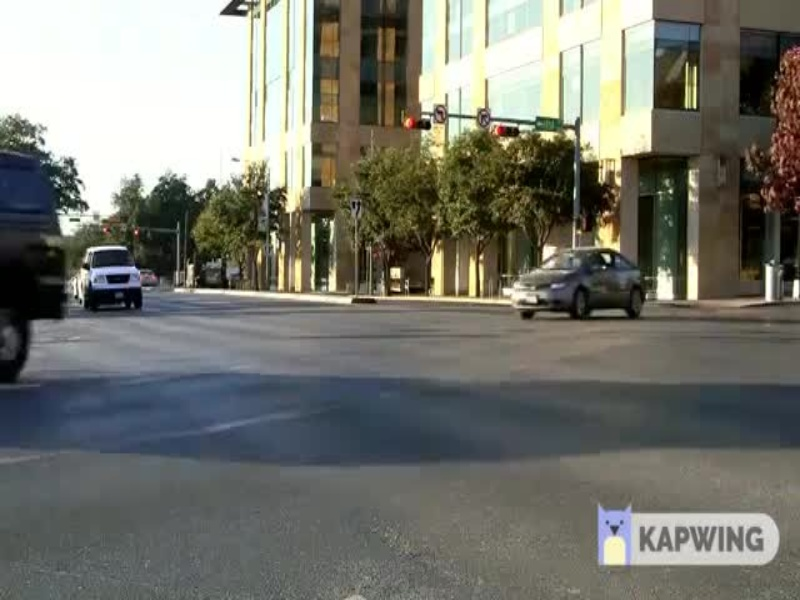car: (512, 245, 656, 326)
suv: (76, 245, 149, 318)
